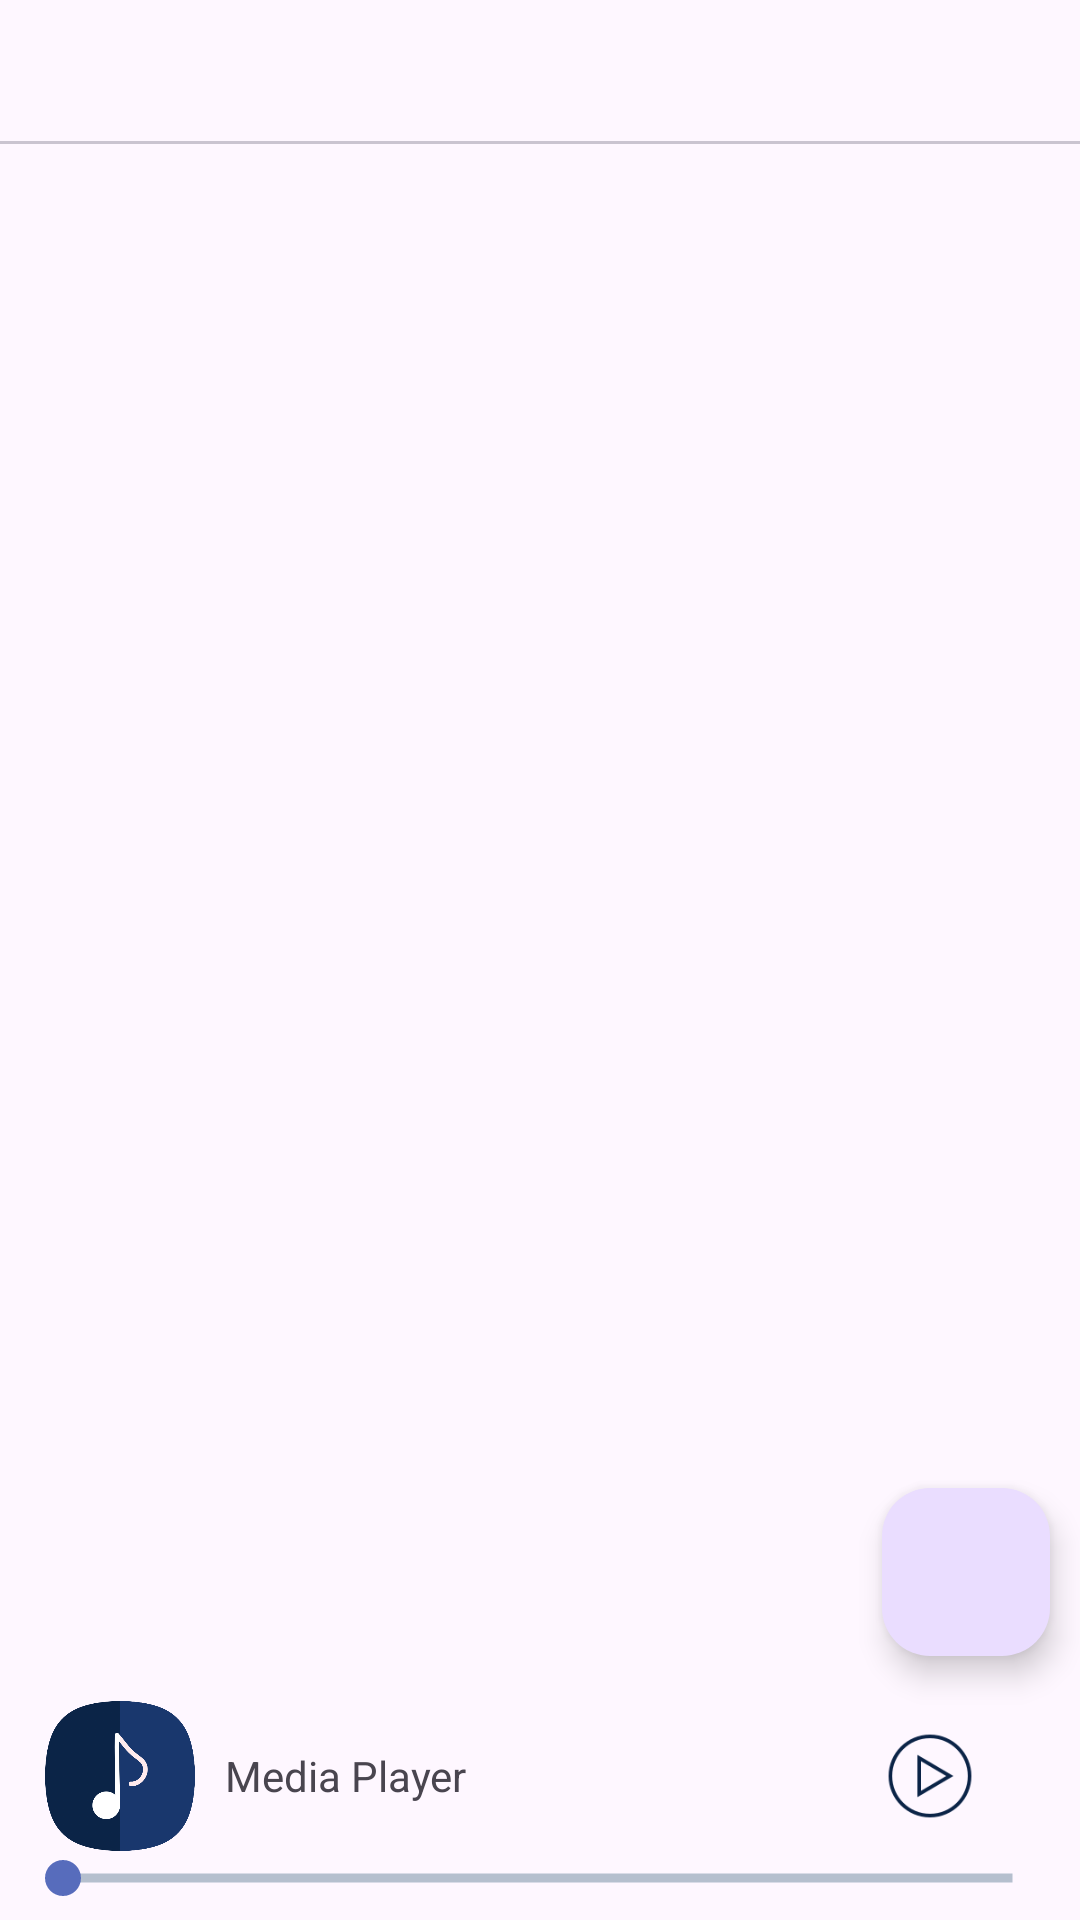

Locate icon controls on the screen. Image size 1080*1920, boxes as BBox(x1, y1, x2, y2).
music: BBox(45, 1701, 195, 1851)
